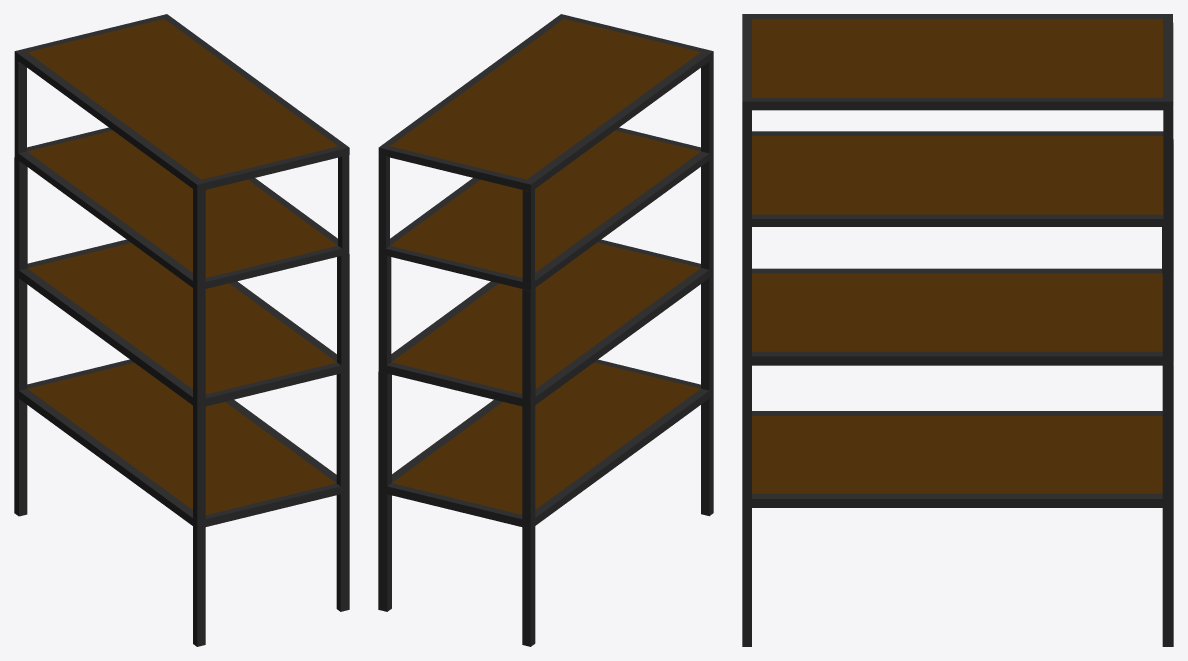
The model's file is Rack.fbx.
The picture shows the model from 3 angles, left to right: view 1: azimuth 30°, elevation 25°; view 2: azimuth 150°, elevation 25°; view 3: azimuth 270°, elevation 25°; orthographic projection. The views are drawn at different scales.
Parts seen in each view (by area): view 1: Cube; view 2: Cube; view 3: Cube.
Boxes of the visible parts, box(x1,y1,x2,y2) form: Cube: box(14, 14, 349, 646); Cube: box(378, 14, 713, 646); Cube: box(742, 14, 1173, 646).
Bounding box in the file's own units: 495 × 1434 × 1028.
